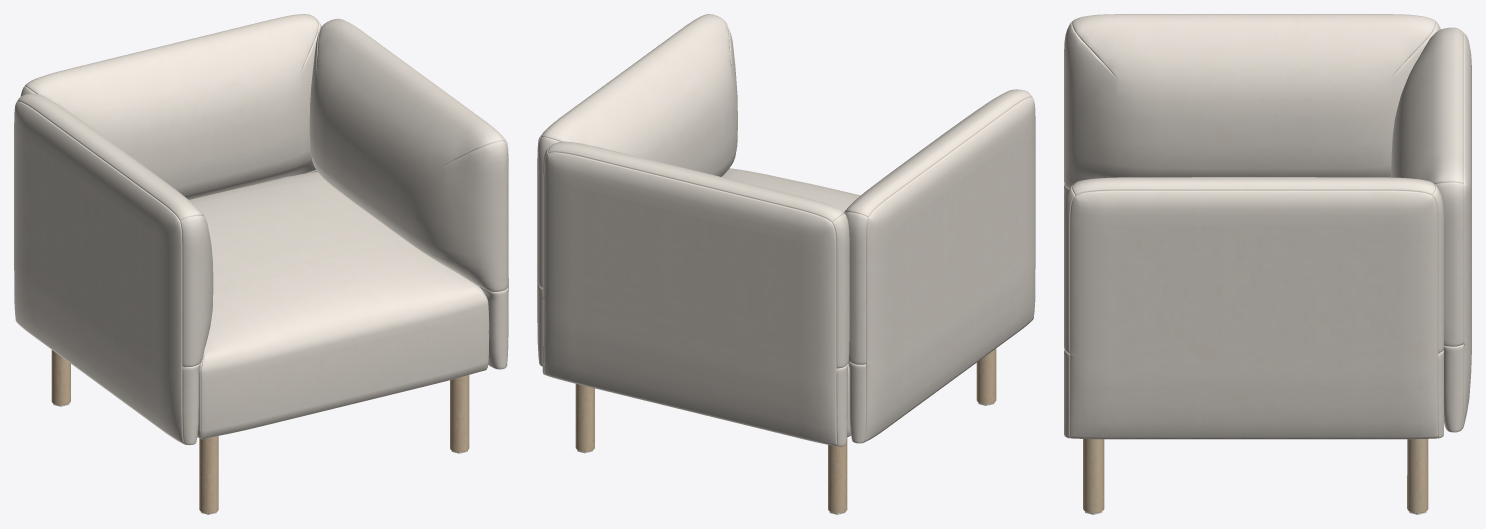
Rendered from lillehem-sillon-visslebeige-madera.glb.
3 renders of one model, left to right at view 1: azimuth 30°, elevation 25°; view 2: azimuth 150°, elevation 25°; view 3: azimuth 270°, elevation 25°, orthographic. The views are drawn at different scales.
Parts seen in each view (by area): view 1: Box001, ASY_ART_40518430_S01_NV01; view 2: Box001, ASY_ART_40518430_S01_NV01; view 3: Box001, ASY_ART_40518430_S01_NV01.
Part boxes in pixels (x1,y1,x2,y2): Box001: (14,14,508,445); ASY_ART_40518430_S01_NV01: (51,350,469,514); Box001: (537,14,1035,446); ASY_ART_40518430_S01_NV01: (575,348,996,514); Box001: (1064,14,1471,439); ASY_ART_40518430_S01_NV01: (1083,439,1428,514).
Bounding box in the file's own units: 0.8151 × 0.725 × 0.7749.
4 materials, 3 textured.
